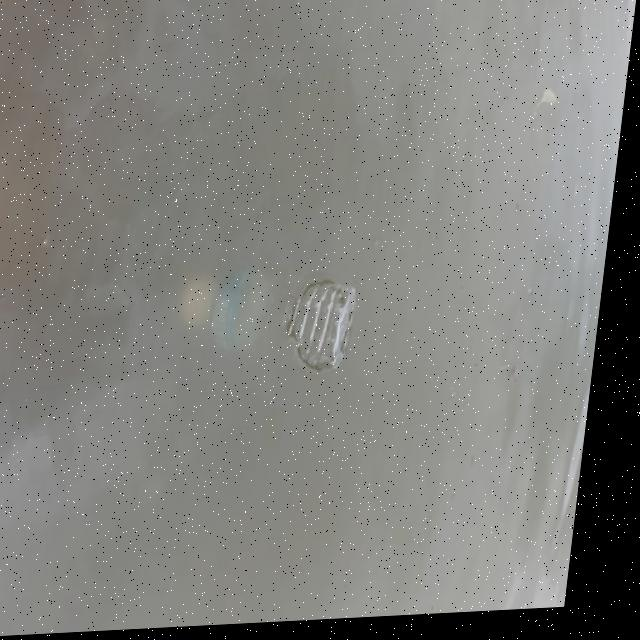waterbottle: (178, 265, 383, 404)
